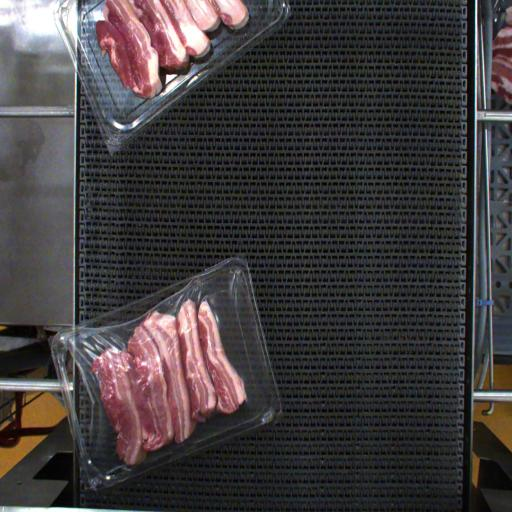unsealed: (52, 270, 273, 419)
